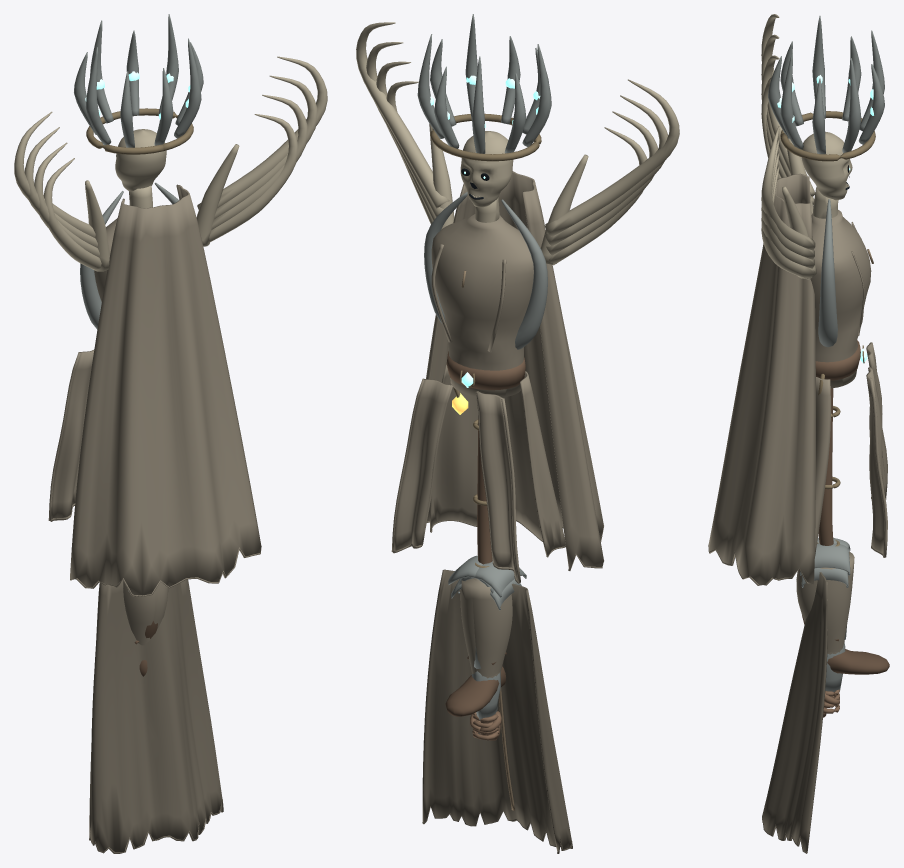
Rendered from guardian_2.glb.
The picture shows the model from 3 angles, left to right: view 1: azimuth 30°, elevation 25°; view 2: azimuth 150°, elevation 25°; view 3: azimuth 270°, elevation 25°; orthographic projection. The views are drawn at different scales.
Visible parts, largest first — view 1: Body__linen, Cape__linen, Body__bone, Body__silver, Weapon__silver, Body__gold, LegL__linen; view 2: Body__linen, Cape__linen, Body__bone, Body__silver, Weapon__silver, LegL__linen, ArmL__silver, KneeL__leather, Body__leather, Body__gold, Weapon__leather, LegR__linen; view 3: Body__linen, Cape__linen, Body__bone, Body__silver, LegR__linen, Weapon__silver, ArmR__silver, KneeL__leather, Body__gold, Weapon__leather, Body__leather, ArmL__silver.
Boxes of the visible parts, x1,y1,x2,y2 form: Body__linen: (48,184,261,596); Cape__linen: (89,579,223,853); Body__bone: (14,56,327,271); Body__silver: (74,14,203,147); Weapon__silver: (80,182,179,329); Body__gold: (86,108,193,154); LegL__linen: (123,581,155,645); Body__linen: (391,171,604,583); Cape__linen: (422,569,572,853); Body__bone: (356,22,679,265); Body__silver: (417,14,551,153); Weapon__silver: (424,192,547,349); LegL__linen: (461,578,512,677); ArmL__silver: (459,561,526,720); KneeL__leather: (445,652,506,716); Body__leather: (446,351,525,390); Body__gold: (430,113,541,387); Weapon__leather: (477,419,492,564); LegR__linen: (460,581,501,678); Body__linen: (708,173,887,585); Cape__linen: (762,572,827,853); Body__bone: (761,14,852,279); Body__silver: (768,16,884,154); LegR__linen: (796,557,854,652); Weapon__silver: (818,199,837,347); ArmR__silver: (800,543,850,587); KneeL__leather: (802,615,889,674); Body__gold: (780,111,875,363); Weapon__leather: (818,388,833,545); Body__leather: (815,340,860,380); ArmL__silver: (817,537,850,691).
Size of the model in its own units: 1.45 by 3.53 by 0.7395.
